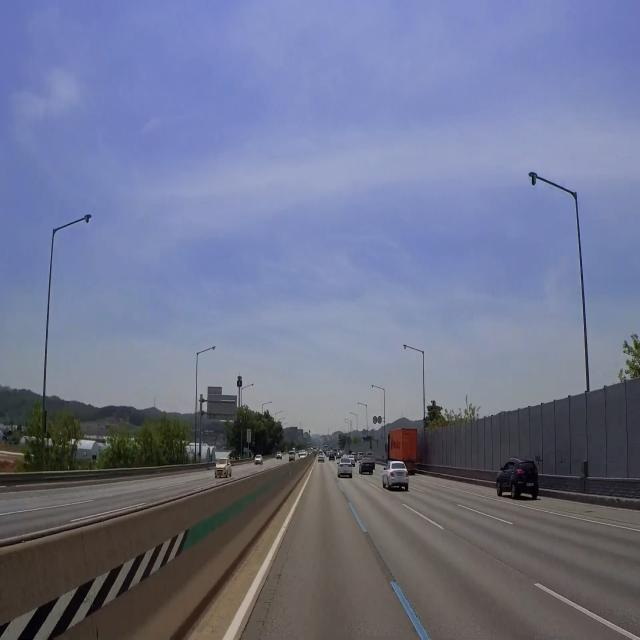car: (524, 477, 535, 489)
